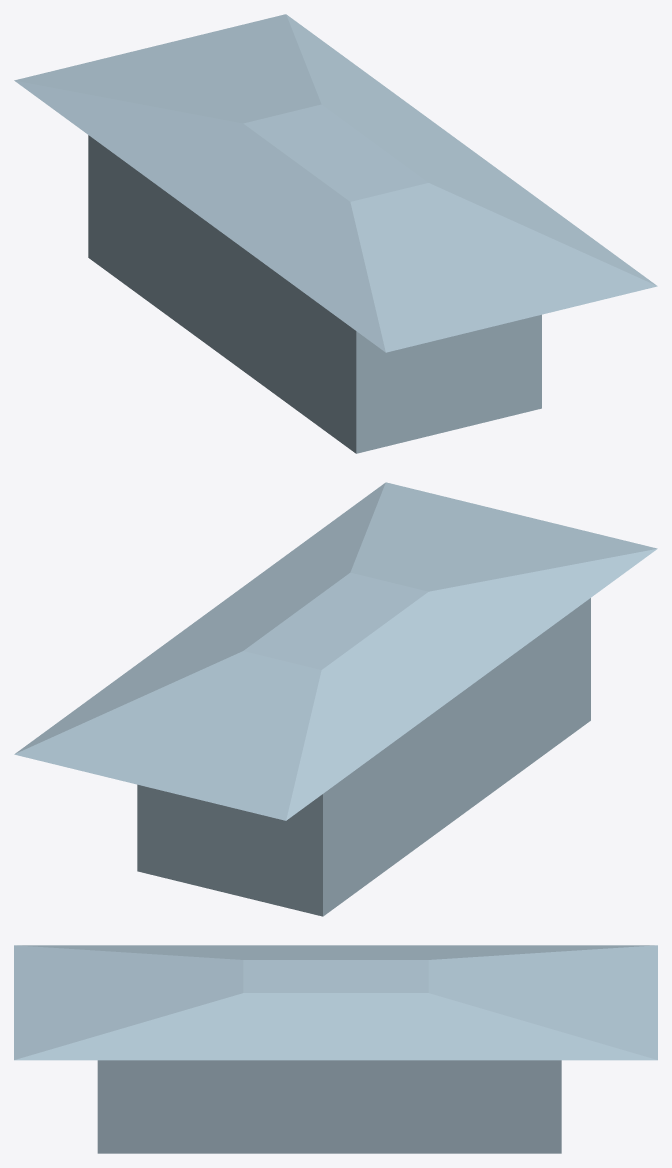
File: Housing7Nav.glb
3 views of the same model, one above another, from view 1: azimuth 30°, elevation 25°; view 2: azimuth 150°, elevation 25°; view 3: azimuth 270°, elevation 25° (orthographic). The views are drawn at different scales.
Parts seen in each view (by area): view 1: Cube.001, Cube; view 2: Cube.001, Cube; view 3: Cube.001, Cube.
Boxes of the visible parts, left/top/right/bottom form: Cube.001: left=14, top=14, right=657, bottom=352; Cube: left=88, top=135, right=541, bottom=453; Cube.001: left=14, top=482, right=657, bottom=820; Cube: left=137, top=598, right=590, bottom=916; Cube.001: left=14, top=945, right=657, bottom=1060; Cube: left=97, top=1060, right=561, bottom=1153.
Size of the model in its own units: 2.93 by 1.76 by 6.94.
